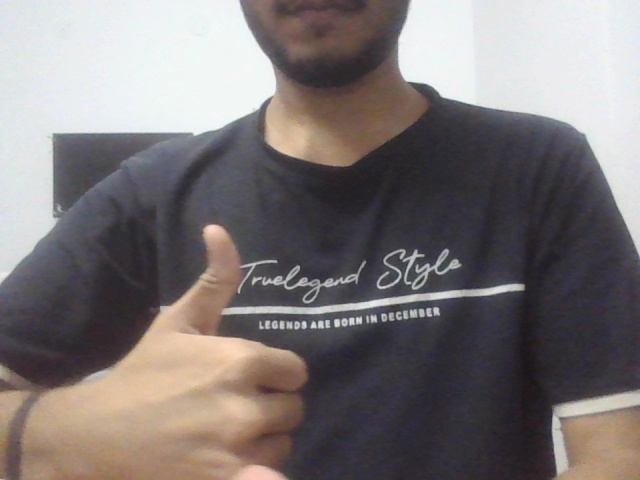Help: (41, 201, 352, 480)
